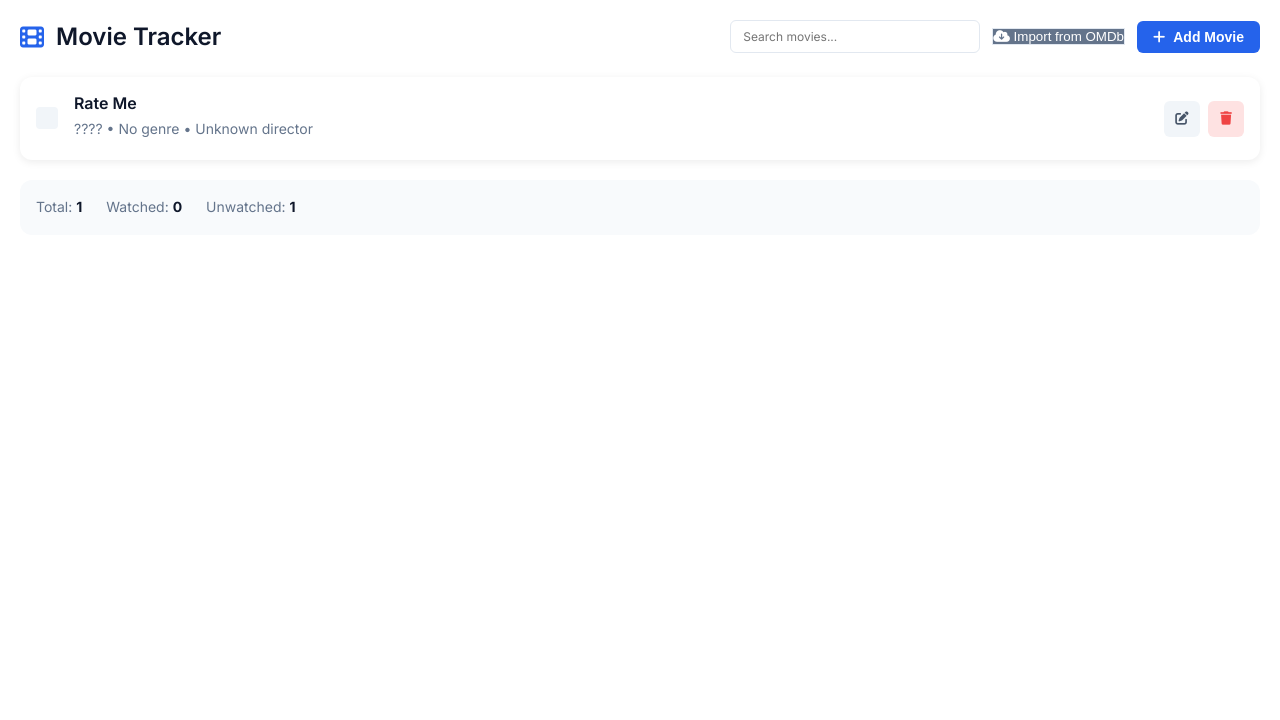
Test: MoviesSection Component › Rating System › opens editor with rating controls
Click the button titled "Edit": (1182, 119) 1164,101 -> 1200,137
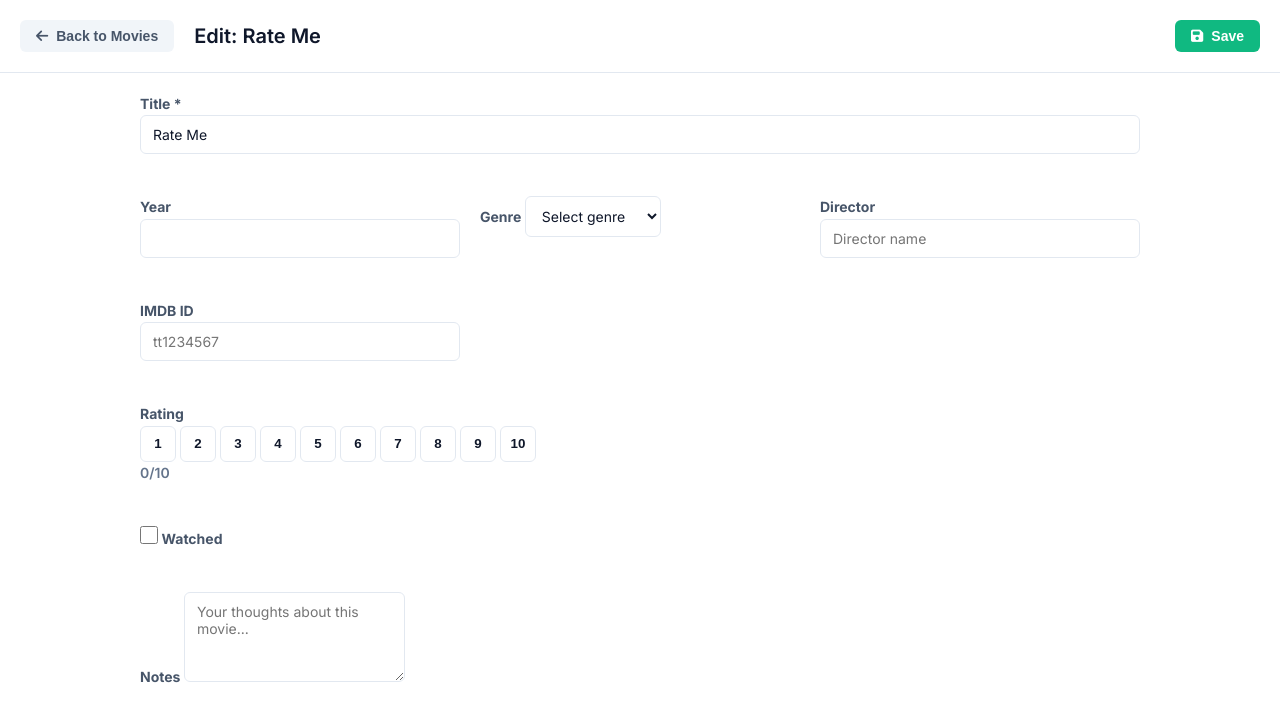
Now the button "Save" is shown, box 1175,20 -> 1260,52
